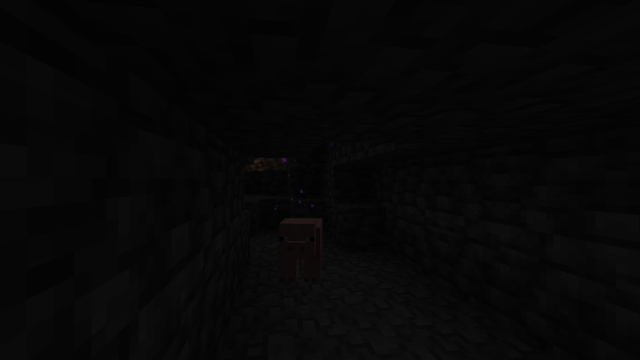cochons: (277, 216, 334, 283)
